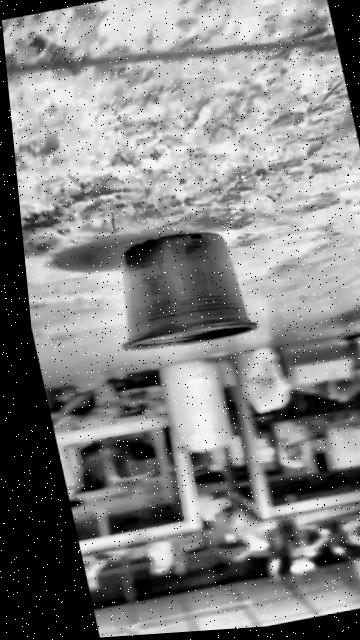pot: (99, 222, 260, 359)
